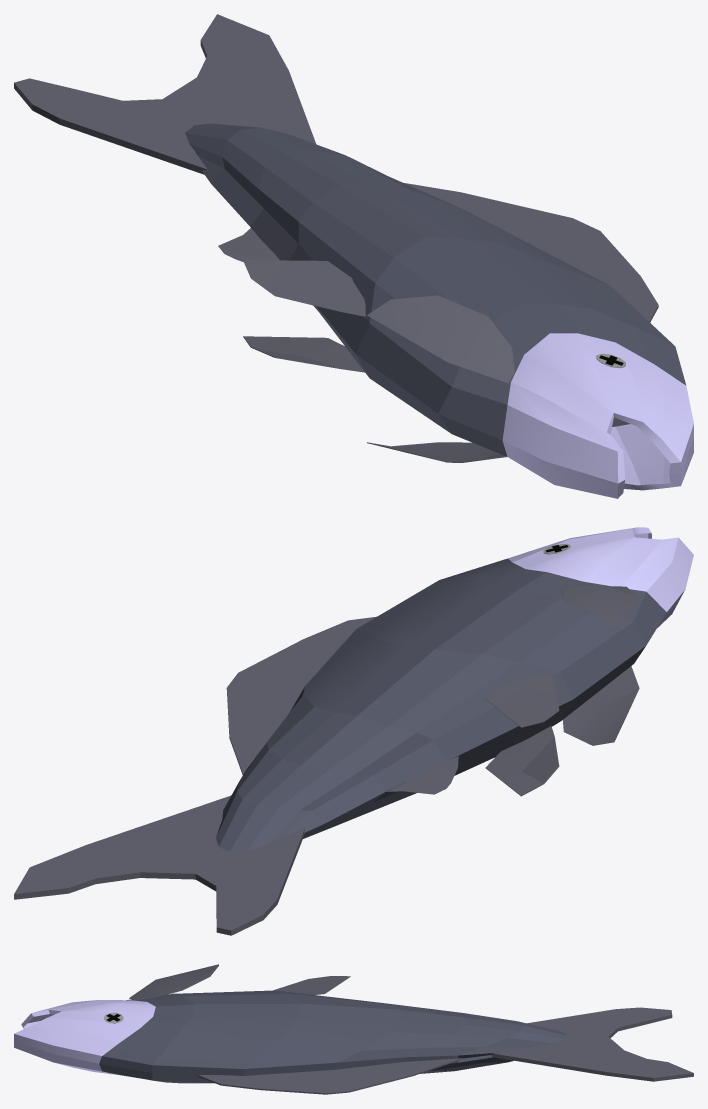
File: Fish_Backpack.fbx
3 views of the same model, one above another, from view 1: azimuth 30°, elevation 25°; view 2: azimuth 150°, elevation 25°; view 3: azimuth 270°, elevation 25° (orthographic). The views are drawn at different scales.
Visible parts, largest first — view 1: Fish; view 2: Fish; view 3: Fish.
Part boxes in pixels (bbox=[...]): Fish: bbox=[14, 14, 693, 498]; Fish: bbox=[14, 527, 693, 935]; Fish: bbox=[14, 964, 693, 1094].
Size of the model in its own units: 41.96 by 17.15 by 123.
